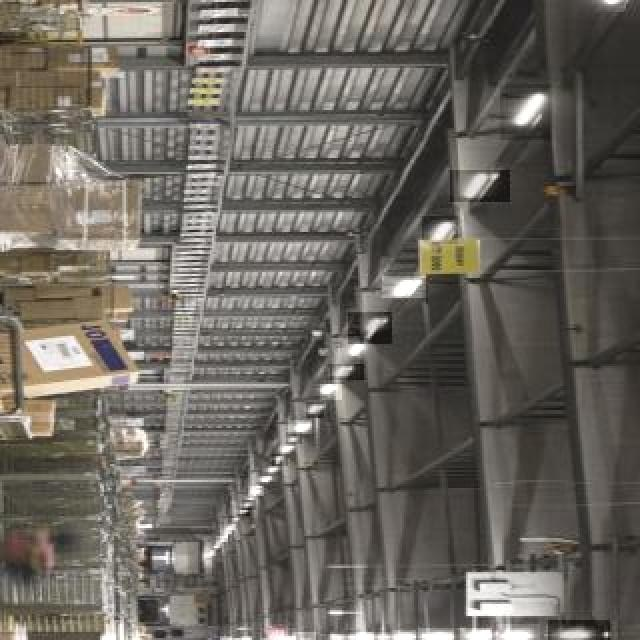fluorescent tube: (498, 83, 555, 145), (449, 173, 513, 209), (371, 269, 422, 309), (356, 311, 400, 345), (422, 218, 460, 251), (544, 622, 600, 640), (588, 0, 636, 20), (468, 622, 520, 640), (420, 620, 466, 640), (494, 624, 550, 640), (380, 626, 422, 640), (345, 340, 371, 362), (388, 628, 428, 640)
